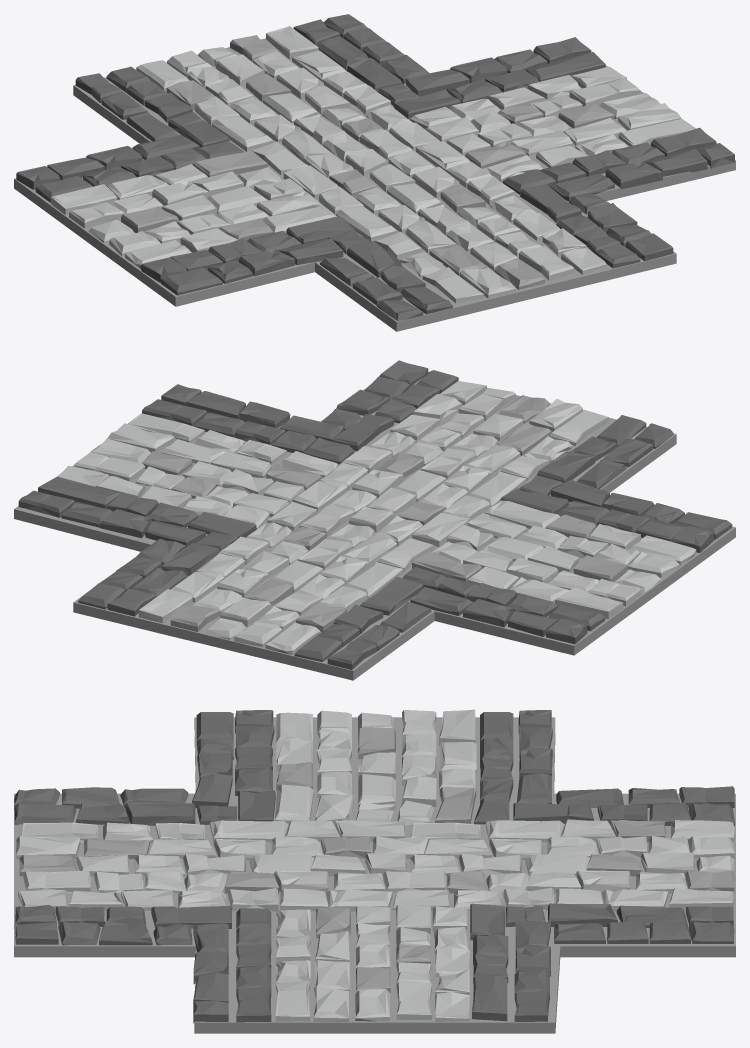
File: Road_Brick_03.glb
3 renders of one model, top to bottom at view 1: azimuth 30°, elevation 25°; view 2: azimuth 150°, elevation 25°; view 3: azimuth 270°, elevation 25°, orthographic. The views are drawn at different scales.
Visible parts, largest first — view 1: Road_breek_3; view 2: Road_breek_3; view 3: Road_breek_3.
Part boxes in pixels (x1,y1,x2,y2): Road_breek_3: (14, 14, 735, 331); Road_breek_3: (14, 360, 735, 680); Road_breek_3: (14, 709, 735, 1033).
Bounding box in the file's own units: 6 × 0.1922 × 6.
Materials: 1 (1 with a texture image).
